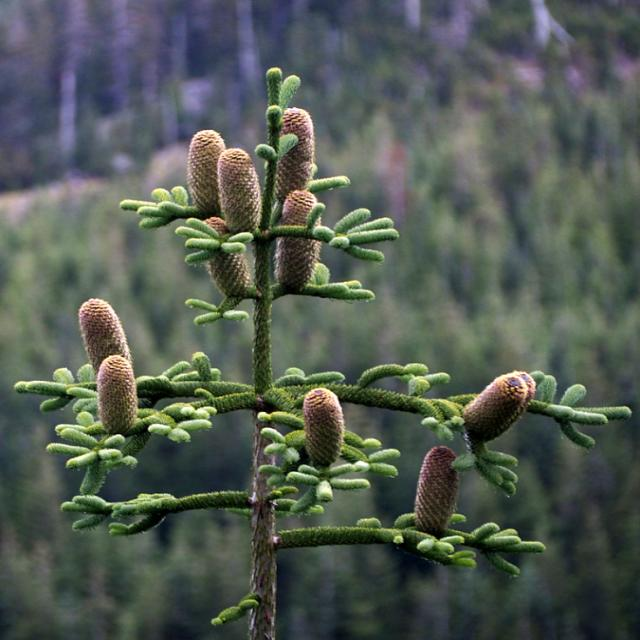Abies: (12, 60, 623, 640)
